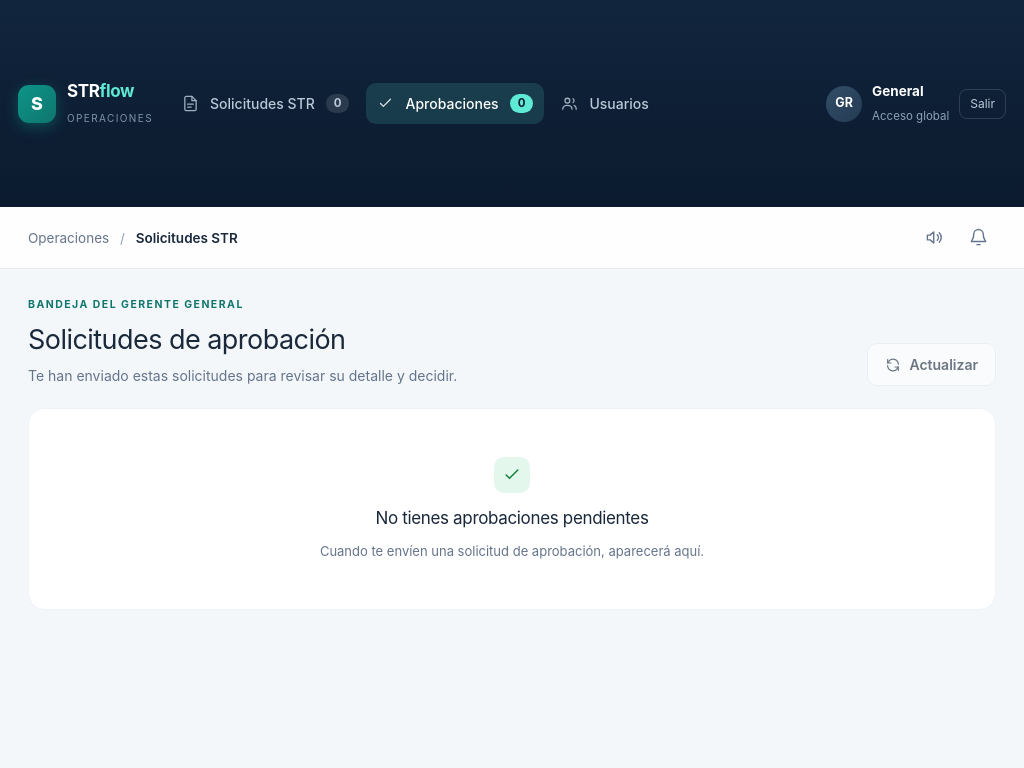
Test: notificación de aprobación › avisa con sonido cuando una solicitud pasa a Aprobada
This screenshot has width=1024, height=768.
Click the link "Solicitudes STR 0" at x=266, y=104, box left=182, top=94, right=349, bottom=113
Wait 12200 ms
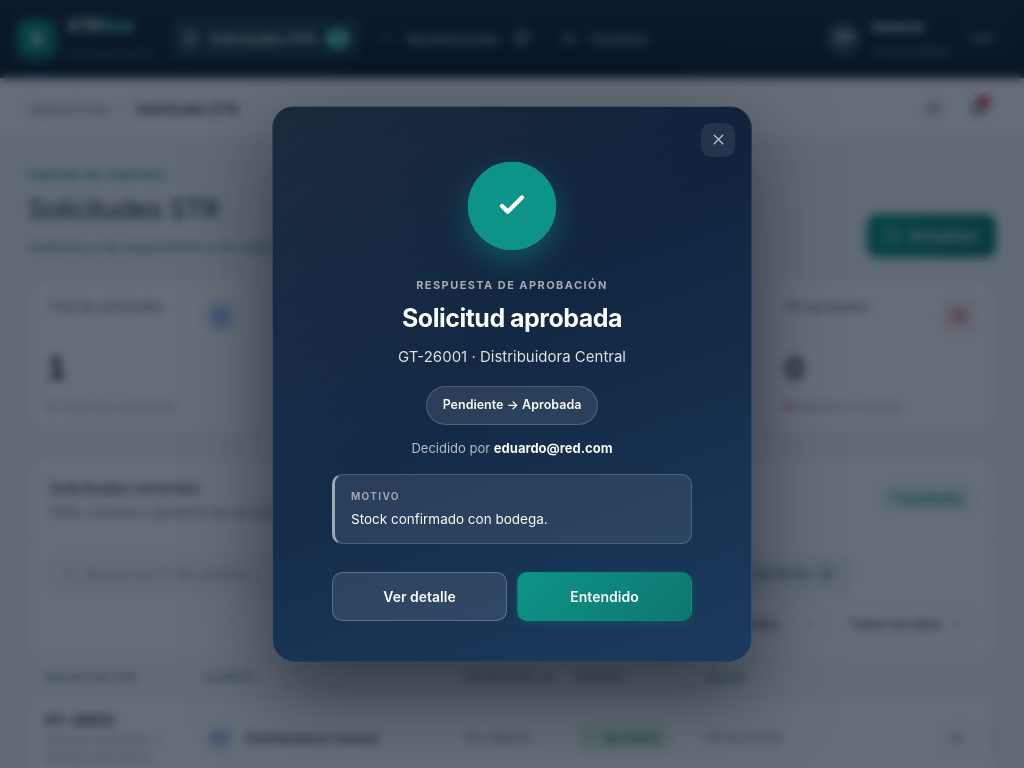
Expected: the heading "Solicitud aprobada" is shown, left=402, top=303, right=622, bottom=334
Expected: the text "Pendiente → Aprobada" is shown, left=426, top=386, right=598, bottom=425
Expected: the text "eduardo@red.com" is shown, left=494, top=440, right=612, bottom=456
